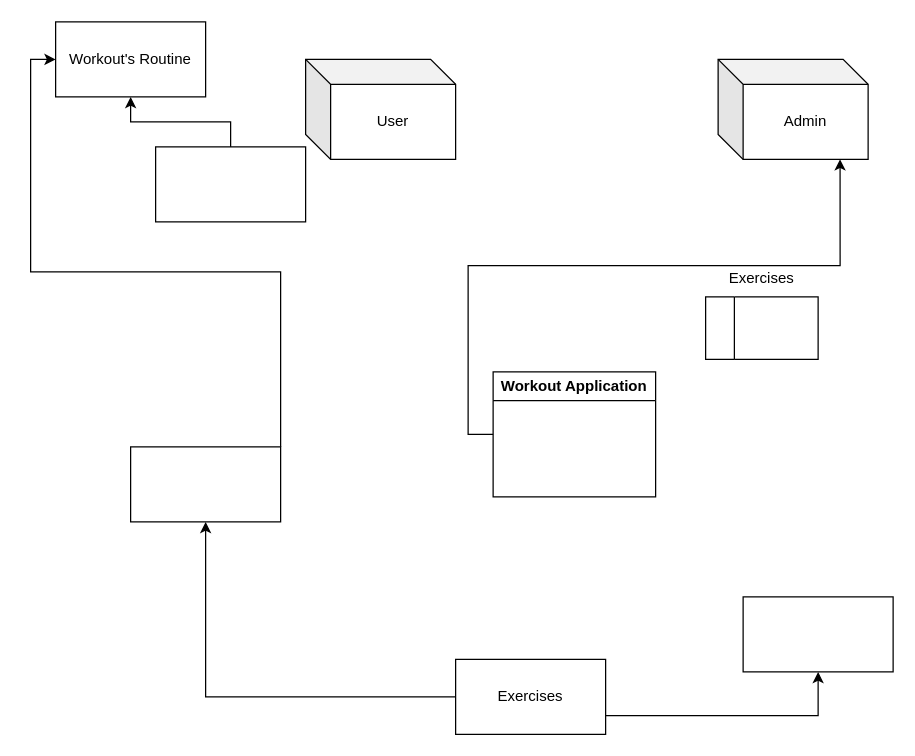
Image size: 915x756. Some labels were removed from this diagram. Each missing label, with the box of its shape:
Excercise: (154, 146, 306, 222)
Progress: (742, 596, 893, 672)
User's exercises: (129, 446, 281, 522)
